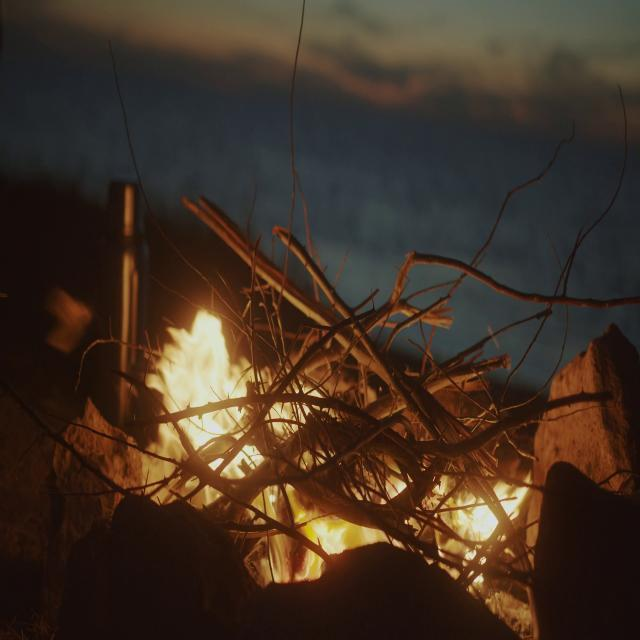Fire: (147, 294, 350, 578), (392, 460, 547, 588)
